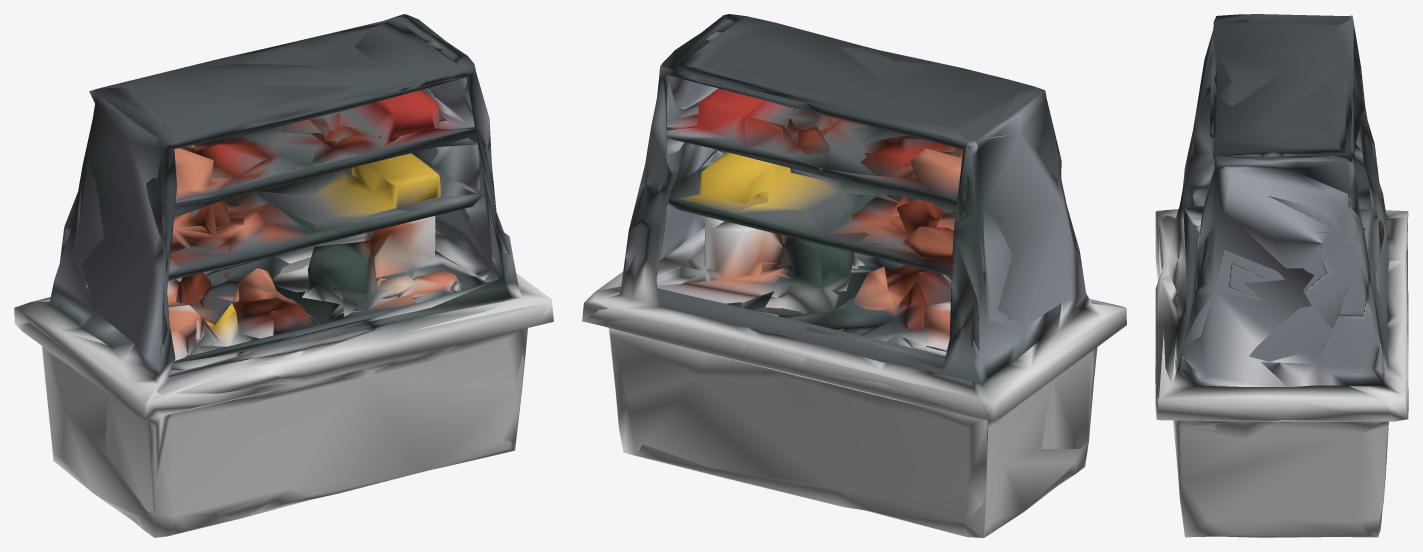
The model's file is gen3d-deli-counter-lod0.glb.
3 views of the same model, side by side, from view 1: azimuth 30°, elevation 25°; view 2: azimuth 150°, elevation 25°; view 3: azimuth 270°, elevation 25° (orthographic). The views are drawn at different scales.
Visible parts, largest first — view 1: part_0; view 2: part_0; view 3: part_0.
Part boxes in pixels (box(x1,y1,x2,y2)): part_0: box(14, 14, 553, 537); part_0: box(582, 14, 1126, 537); part_0: box(1155, 14, 1408, 537).
Size of the model in its own units: 1.11 by 1 by 0.6158.
